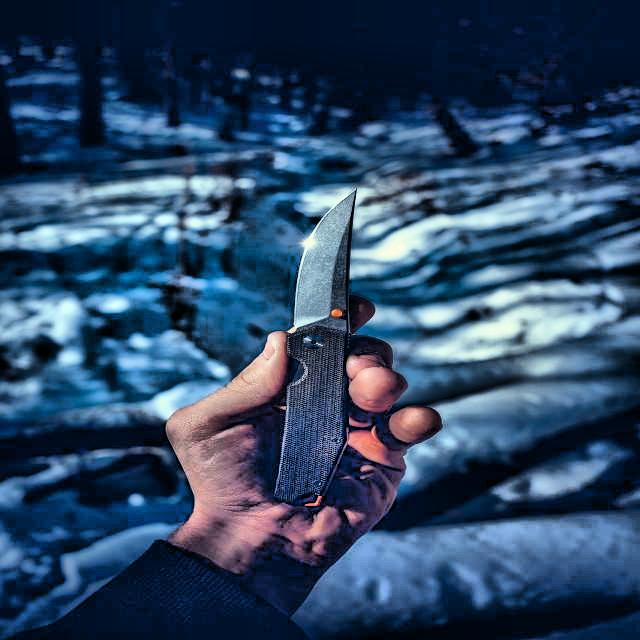knife: (268, 183, 360, 518)
